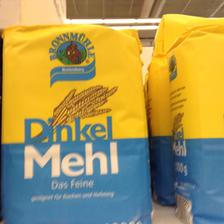Mehl: (2, 22, 152, 221)
